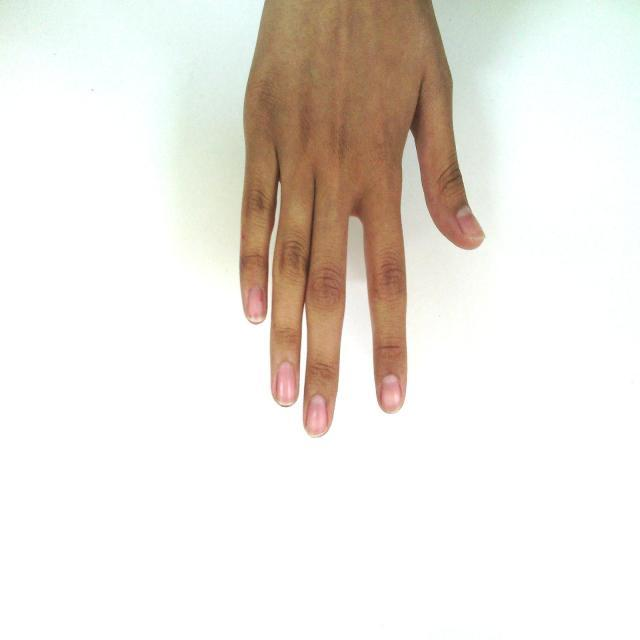Fingernail: (457, 207, 484, 240), (276, 362, 296, 405), (306, 394, 326, 436), (381, 375, 400, 412), (247, 287, 264, 320)
